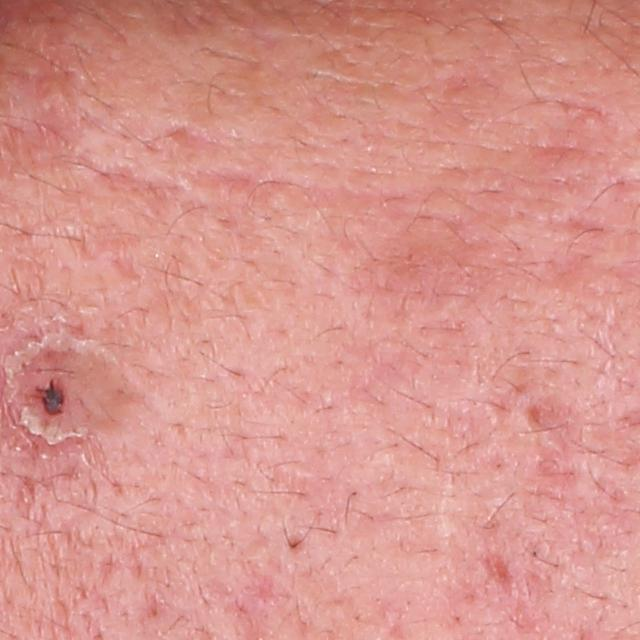atrophic_scar: (177, 163, 286, 197), (481, 545, 517, 599), (158, 121, 215, 154)
